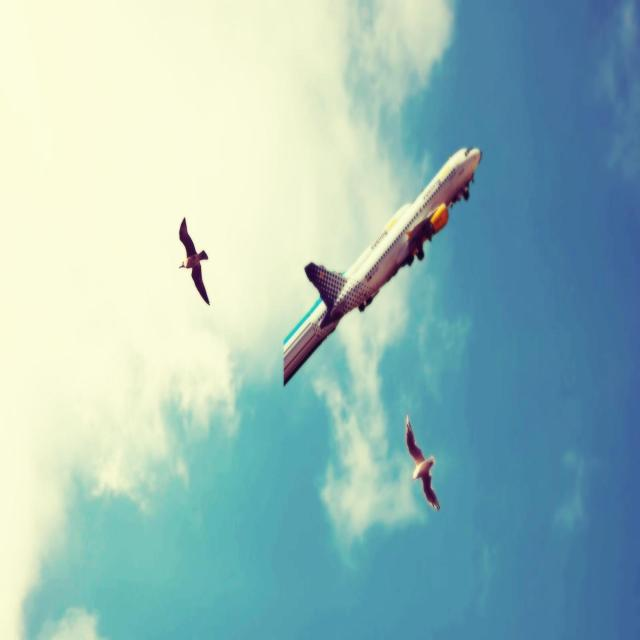airplane: (282, 144, 482, 386)
